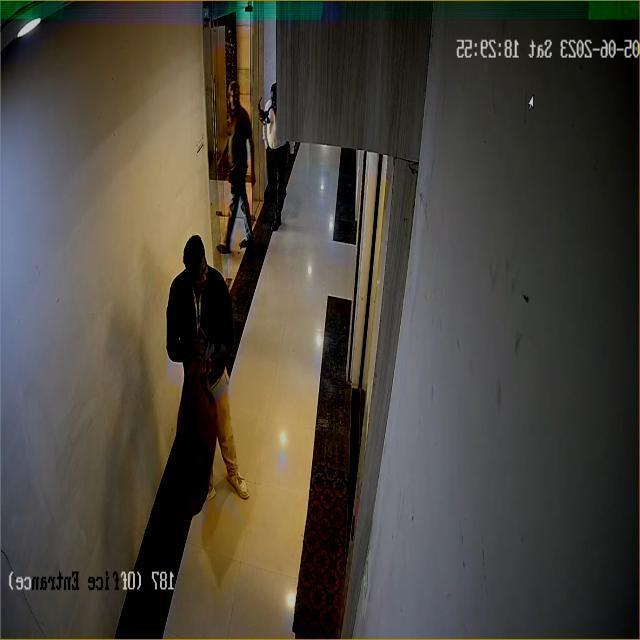gunny_bag: (168, 354, 218, 524)
